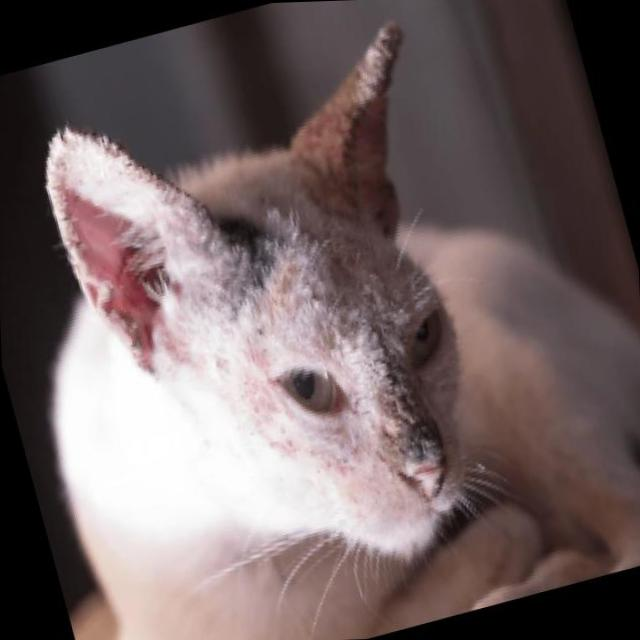Mange: (376, 341, 442, 472), (77, 271, 146, 372), (349, 21, 401, 112), (318, 441, 364, 498), (264, 424, 300, 455)
